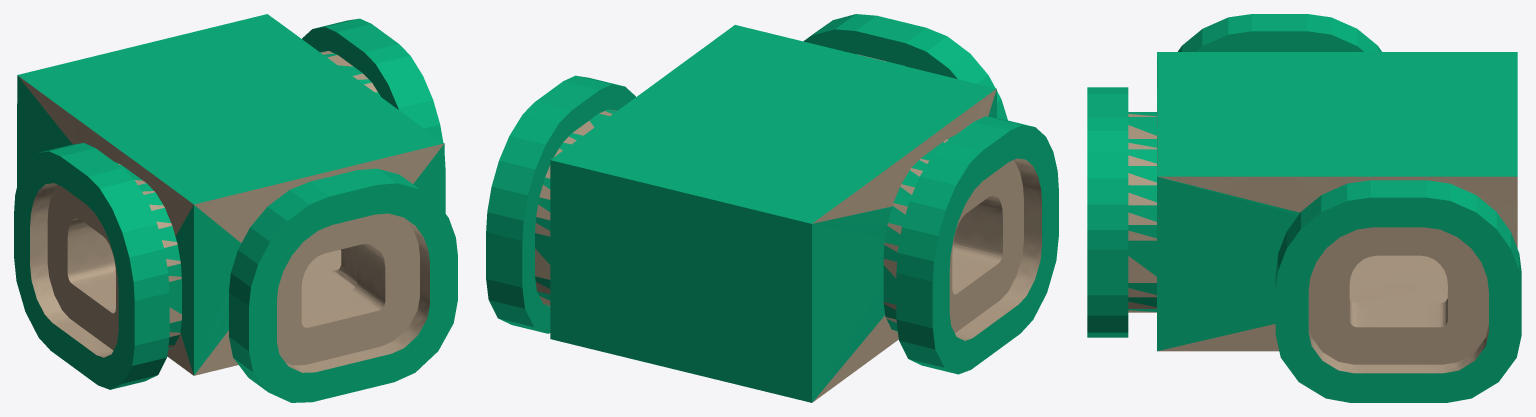
File: TT_P_Junction.fbx
3 renders of one model, left to right at view 1: azimuth 30°, elevation 25°; view 2: azimuth 150°, elevation 25°; view 3: azimuth 270°, elevation 25°, orthographic. The views are drawn at different scales.
Parts seen in each view (by area): view 1: TT_P_Junction_LOD0; view 2: TT_P_Junction_LOD0; view 3: TT_P_Junction_LOD0.
Part boxes in pixels (bbox=[...]): TT_P_Junction_LOD0: bbox=[14, 14, 457, 402]; TT_P_Junction_LOD0: bbox=[486, 14, 1058, 402]; TT_P_Junction_LOD0: bbox=[1087, 14, 1521, 402].
Bounding box in the file's own units: 530 × 277 × 530.
